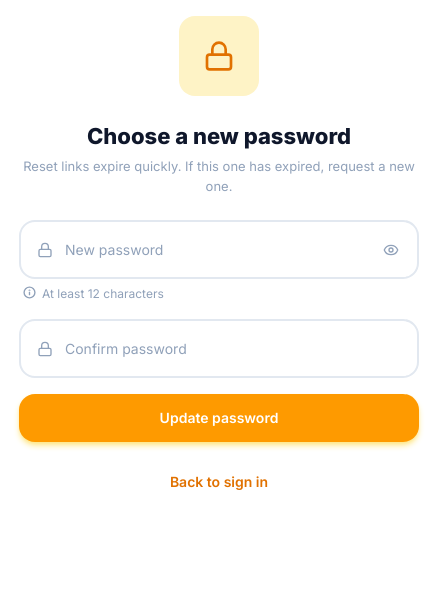
Test: ResetPasswordPage › rejects short passwords before hitting the backend
The width and height of the screenshot is (439, 607).
Expected: the heading "Choose a new password" is shown, [87, 123, 351, 149]
Type "short" into the password field labelled "New password". click: (219, 250)
box: [21, 222, 417, 277]
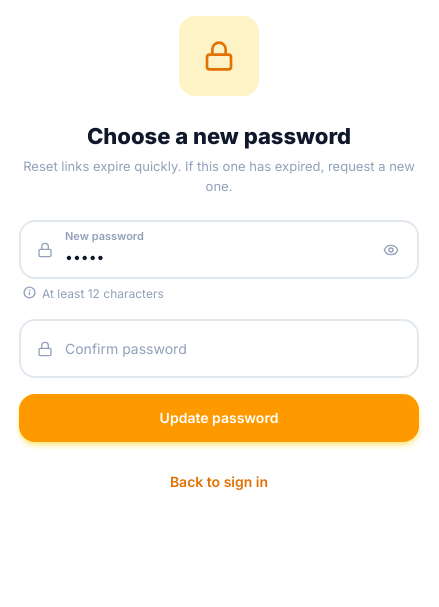
Type "short" into the password field labelled "Confirm password". click: (219, 348)
box: [21, 321, 417, 376]
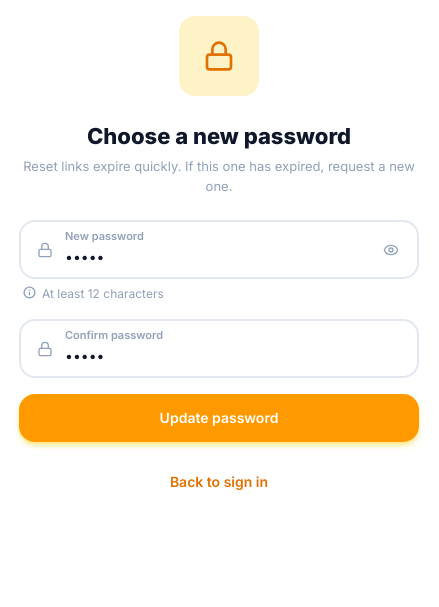
Click the button "Update password". click: (219, 418)
box: [19, 394, 419, 442]
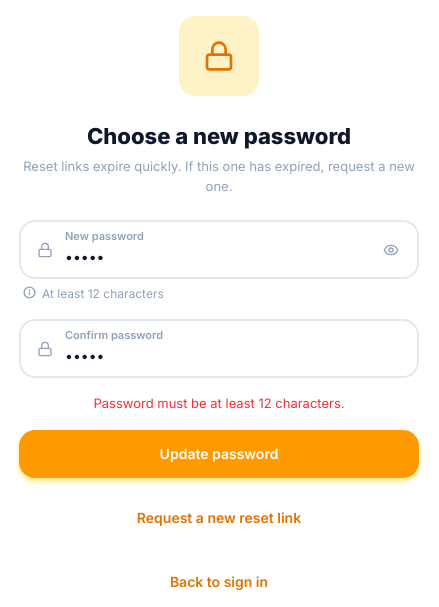
Now the text "Password must be at least 12 characters." is shown, box [93, 395, 344, 411]
